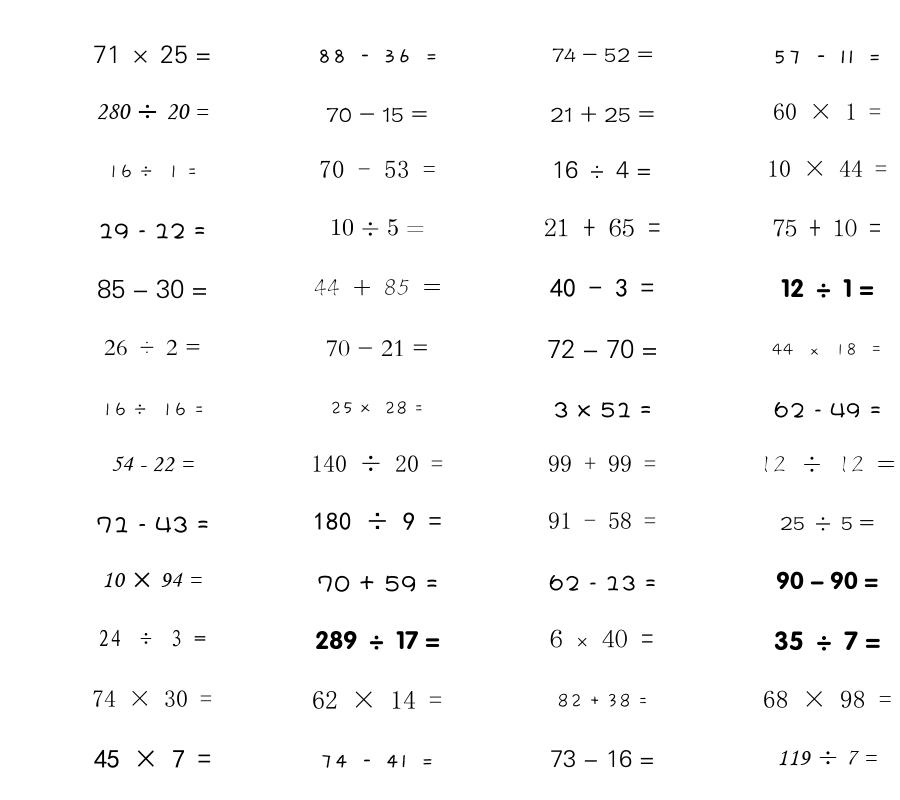MQ: (315, 630, 440, 650), (312, 690, 442, 709), (313, 512, 442, 531), (763, 690, 892, 708), (760, 456, 895, 473), (314, 278, 441, 296), (311, 455, 443, 472), (93, 45, 211, 64), (544, 218, 661, 237), (94, 749, 211, 768), (97, 279, 208, 299), (547, 339, 658, 359), (774, 631, 881, 651), (319, 160, 436, 178), (550, 278, 654, 298), (317, 575, 438, 592), (767, 160, 887, 177), (92, 690, 212, 707), (550, 749, 655, 768), (550, 629, 654, 648), (773, 219, 881, 237), (98, 629, 206, 647), (776, 571, 878, 590), (96, 516, 209, 533), (552, 160, 652, 179), (781, 278, 874, 298), (773, 103, 881, 120), (548, 455, 656, 472), (548, 512, 656, 529), (774, 401, 881, 418), (549, 574, 656, 591), (96, 104, 209, 120), (550, 106, 655, 123), (326, 340, 429, 357), (98, 223, 206, 239), (330, 218, 425, 236), (317, 49, 438, 63), (104, 339, 201, 356), (102, 572, 202, 588), (777, 750, 877, 766), (320, 754, 434, 768), (553, 402, 652, 418), (101, 402, 204, 417), (772, 50, 882, 64), (326, 107, 428, 122), (552, 48, 653, 63), (772, 343, 883, 356), (780, 516, 874, 531), (557, 693, 648, 708), (107, 164, 197, 179), (111, 456, 194, 472), (330, 401, 424, 415)
